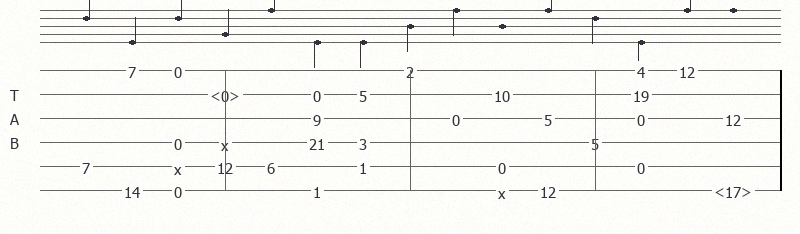0: (174, 183, 186, 198), (174, 63, 186, 78), (174, 135, 186, 150), (313, 87, 325, 102), (452, 111, 464, 126), (498, 159, 510, 174), (637, 111, 649, 126), (637, 159, 649, 174)
1: (313, 183, 325, 198), (359, 159, 371, 174)
10: (494, 87, 514, 102)
12: (217, 159, 237, 174), (540, 183, 560, 198), (679, 63, 699, 78), (725, 111, 745, 126)
14: (124, 183, 144, 198)
19: (633, 87, 653, 102)
2: (406, 63, 418, 78)
21: (309, 135, 329, 150)
3: (359, 135, 371, 150)
4: (637, 63, 649, 78)
5: (359, 87, 371, 102), (544, 111, 556, 126), (591, 135, 603, 150)
6: (267, 159, 279, 174)
7: (82, 159, 94, 174), (128, 63, 140, 78)
9: (313, 111, 325, 126)
harmonic: (714, 183, 756, 198), (210, 87, 244, 102)
x: (174, 160, 186, 172), (221, 136, 233, 148), (498, 184, 510, 196)
